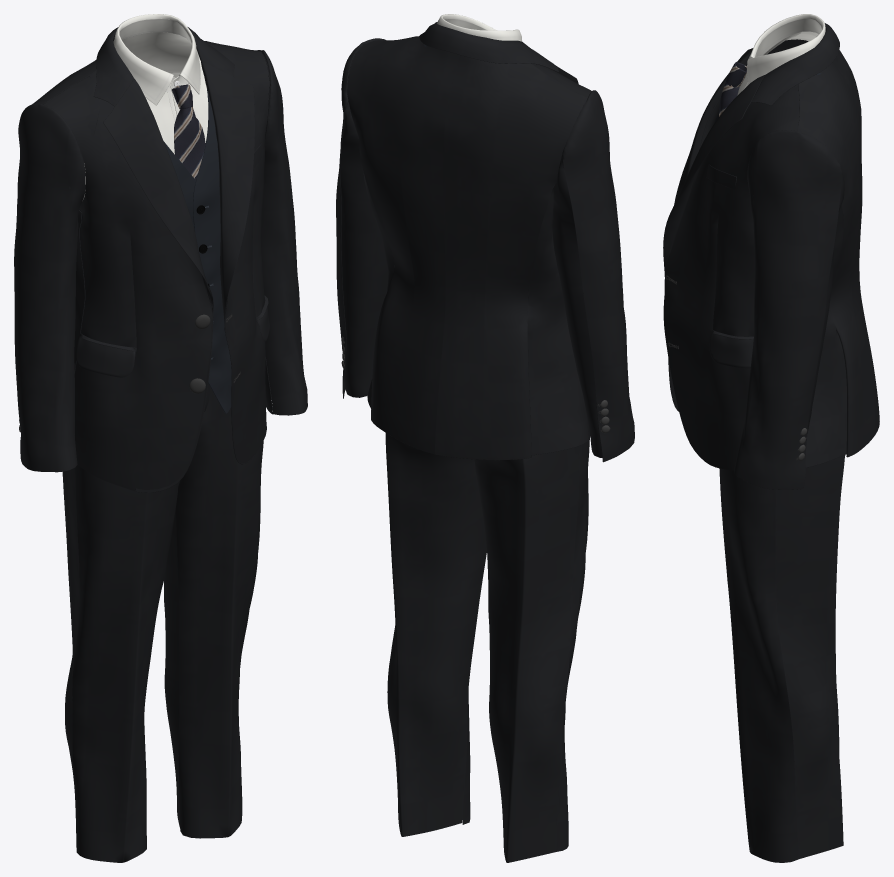
Rendered from man_black_business_suit.glb.
3 views of the same model, side by side, from view 1: azimuth 30°, elevation 25°; view 2: azimuth 150°, elevation 25°; view 3: azimuth 270°, elevation 25° (orthographic). The views are drawn at different scales.
Size of the model in its own units: 545 by 1517 by 372.
Materials: 9 (1 with a texture image).
